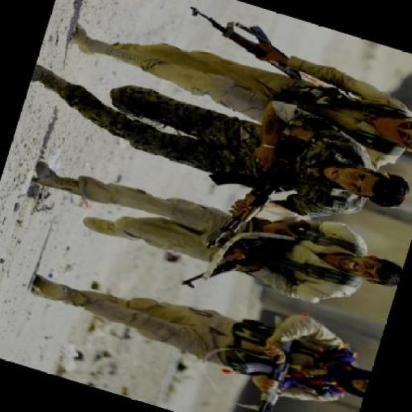Gun: (188, 103, 325, 276), (173, 0, 323, 86), (179, 208, 297, 313), (208, 311, 302, 412)
